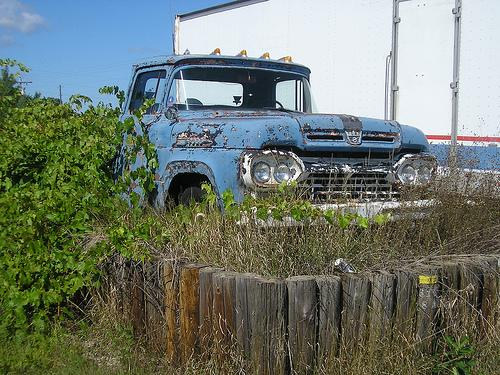truck: (35, 47, 446, 244)
